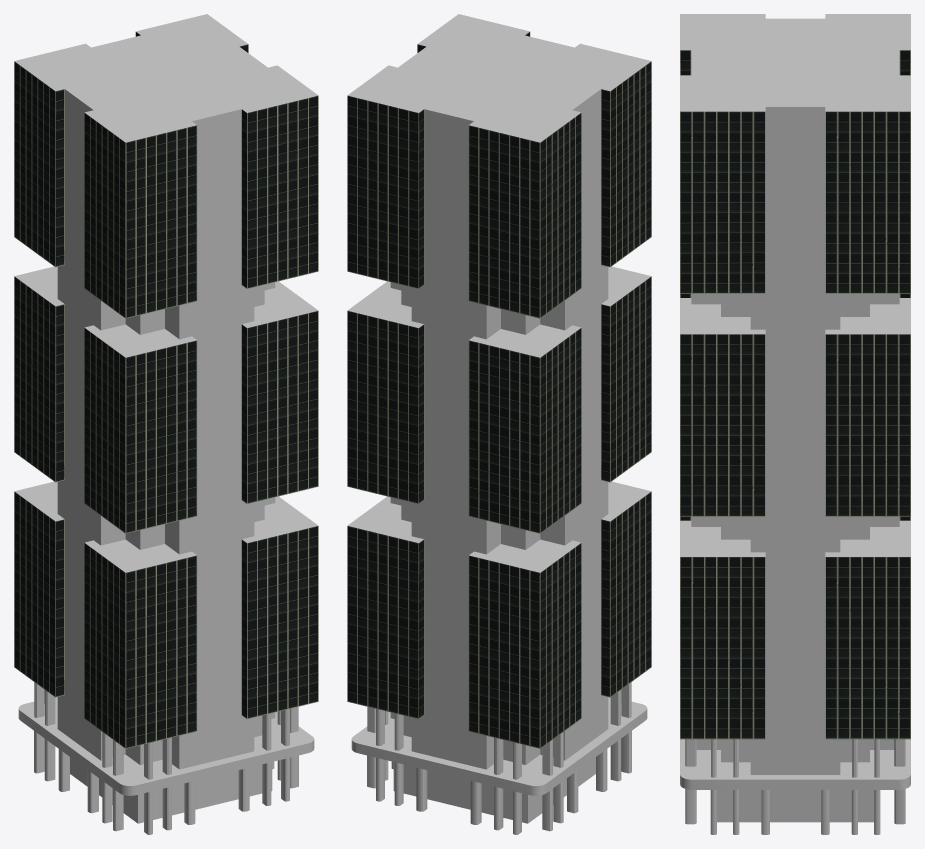
3 views of the same model, side by side, from view 1: azimuth 30°, elevation 25°; view 2: azimuth 150°, elevation 25°; view 3: azimuth 270°, elevation 25° (orthographic). The views are drawn at different scales.
Parts seen in each view (by area): view 1: EC-036; view 2: EC-036; view 3: EC-036.
Part boxes in pixels (x1,y1,x2,y2): EC-036: (14, 14, 318, 834); EC-036: (347, 14, 651, 834); EC-036: (680, 14, 910, 834).
Size of what is drawn, in the model's own units: 31 by 108 by 31.
